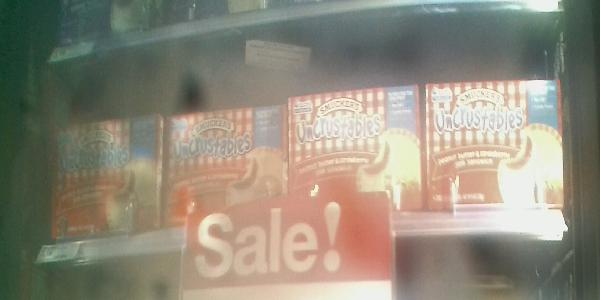icecream: (425, 80, 569, 213), (286, 84, 423, 215), (157, 105, 287, 235), (37, 114, 161, 238)
